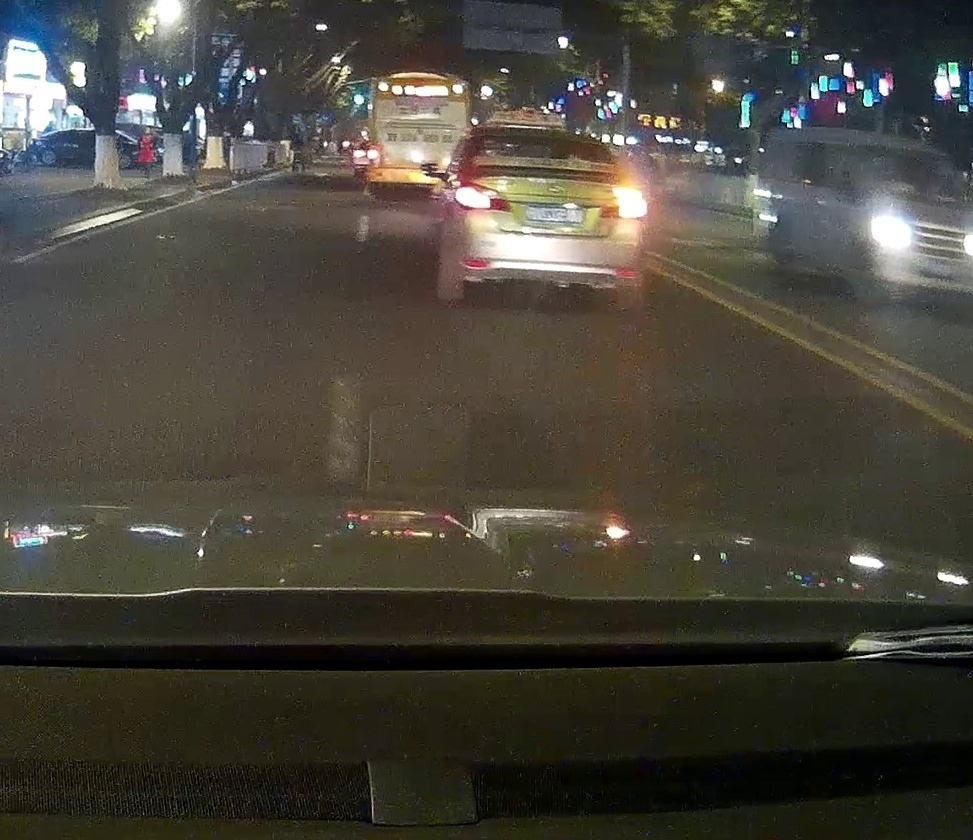L_light: (449, 182, 511, 213)
R_light: (600, 187, 647, 220)
T_light: (534, 137, 565, 144)
night-right: (437, 125, 649, 309)
